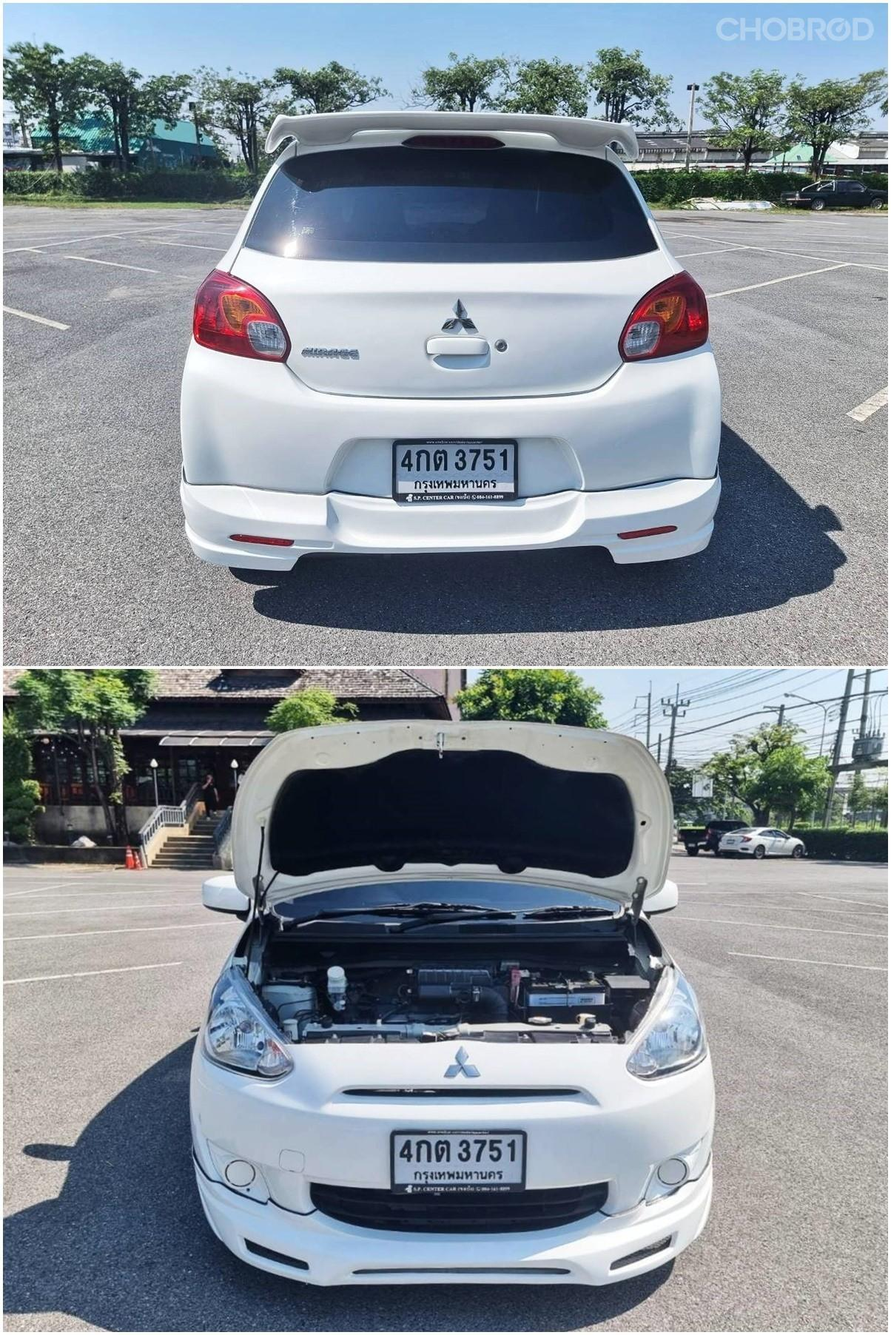license-plate: (389, 1123, 533, 1201), (387, 431, 521, 504)
